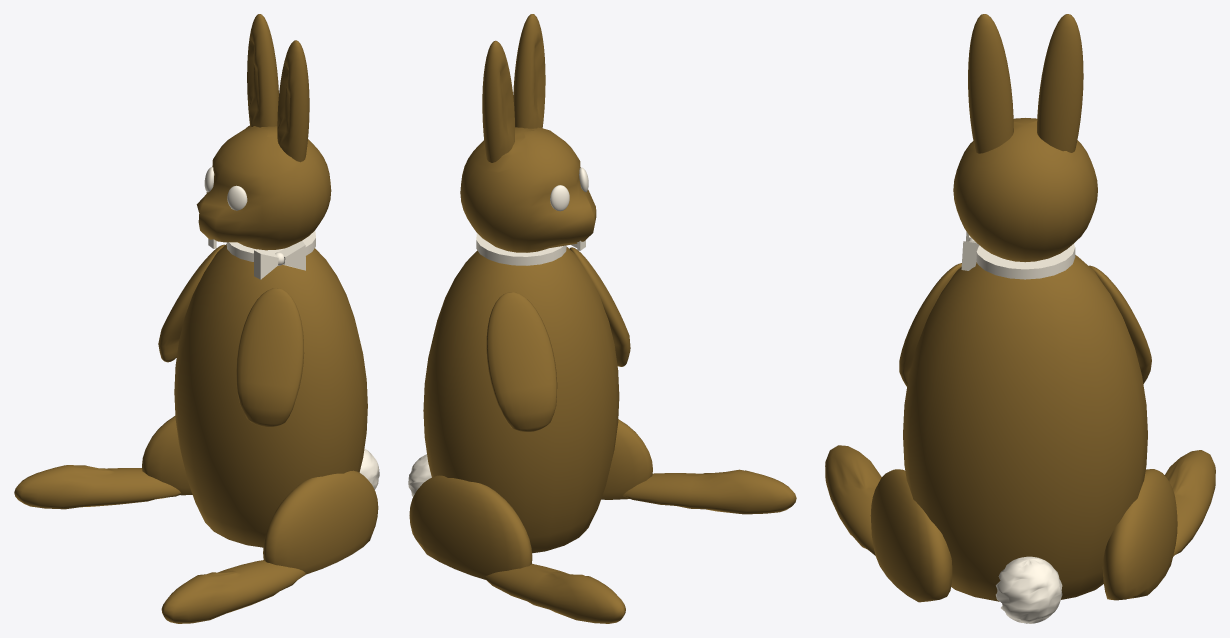
Rendered from chocoBunny.fbx.
3 views of the same model, side by side, from view 1: azimuth 30°, elevation 25°; view 2: azimuth 150°, elevation 25°; view 3: azimuth 270°, elevation 25° (orthographic). The views are drawn at different scales.
Visible parts, largest first — view 1: pSphere4, pasted__pSphere5 (×3), pSphere1, pSphere5, pasted__pasted__pSphere5 (×2), pSphere7, pasted__pSphere7, pPipe1, pasted__pCube1, pCube1, pSphere6; view 2: pSphere4, pasted__pasted__pSphere5 (×2), pSphere1, pasted__pSphere5 (×3), pSphere5, pasted__pSphere7, pSphere7, pPipe1, pSphere6; view 3: pSphere4, pSphere1, pasted__pSphere5 (×3), pasted__pasted__pSphere5 (×2), pSphere7, pasted__pSphere7, pSphere5, pSphere6, pPipe1.
Part boxes in pixels (left/top/right/bottom): pSphere4: left=174, top=244, right=367, bottom=547; pasted__pSphere5 (×3): left=14, top=288, right=378, bottom=574; pSphere1: left=196, top=125, right=331, bottom=250; pSphere5: left=161, top=560, right=305, bottom=623; pasted__pasted__pSphere5 (×2): left=142, top=244, right=224, bottom=495; pSphere7: left=277, top=40, right=309, bottom=162; pasted__pSphere7: left=247, top=14, right=278, bottom=127; pPipe1: left=226, top=231, right=315, bottom=261; pasted__pCube1: left=254, top=250, right=278, bottom=279; pCube1: left=278, top=241, right=305, bottom=270; pSphere6: left=359, top=448, right=379, bottom=489; pSphere4: left=423, top=247, right=619, bottom=553; pasted__pasted__pSphere5 (×2): left=409, top=292, right=557, bottom=579; pSphere1: left=460, top=127, right=596, bottom=252; pasted__pSphere5 (×3): left=484, top=247, right=652, bottom=623; pSphere5: left=623, top=469, right=796, bottom=514; pasted__pSphere7: left=482, top=40, right=514, bottom=162; pSphere7: left=513, top=14, right=545, bottom=128; pPipe1: left=476, top=233, right=566, bottom=265; pSphere6: left=408, top=454, right=431, bottom=496; pSphere4: left=903, top=255, right=1147, bottom=601; pSphere1: left=953, top=118, right=1097, bottom=262; pasted__pSphere5 (×3): left=870, top=263, right=1215, bottom=602; pasted__pasted__pSphere5 (×2): left=1089, top=265, right=1177, bottom=600; pSphere7: left=968, top=14, right=1013, bottom=153; pasted__pSphere7: left=1037, top=14, right=1083, bottom=152; pSphere5: left=825, top=445, right=881, bottom=555; pSphere6: left=996, top=556, right=1062, bottom=623; pPipe1: left=976, top=244, right=1075, bottom=279.
Bounding box in the file's own units: 9.93 × 15.84 × 9.88.
